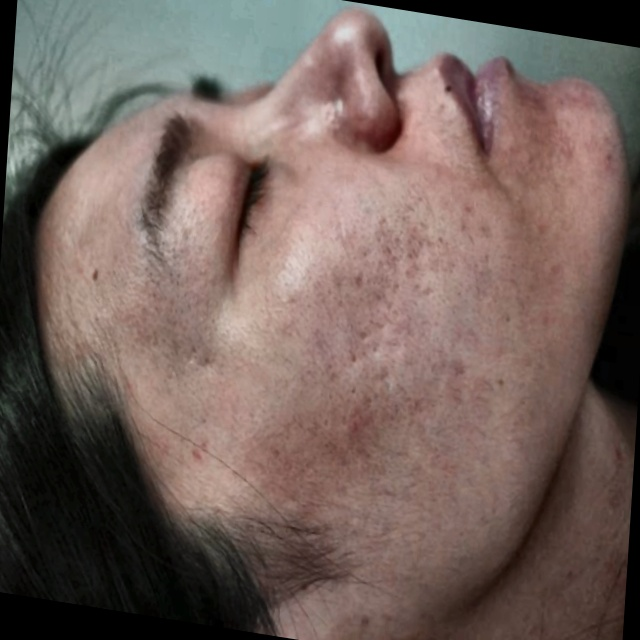comedone: (597, 136, 632, 195)
